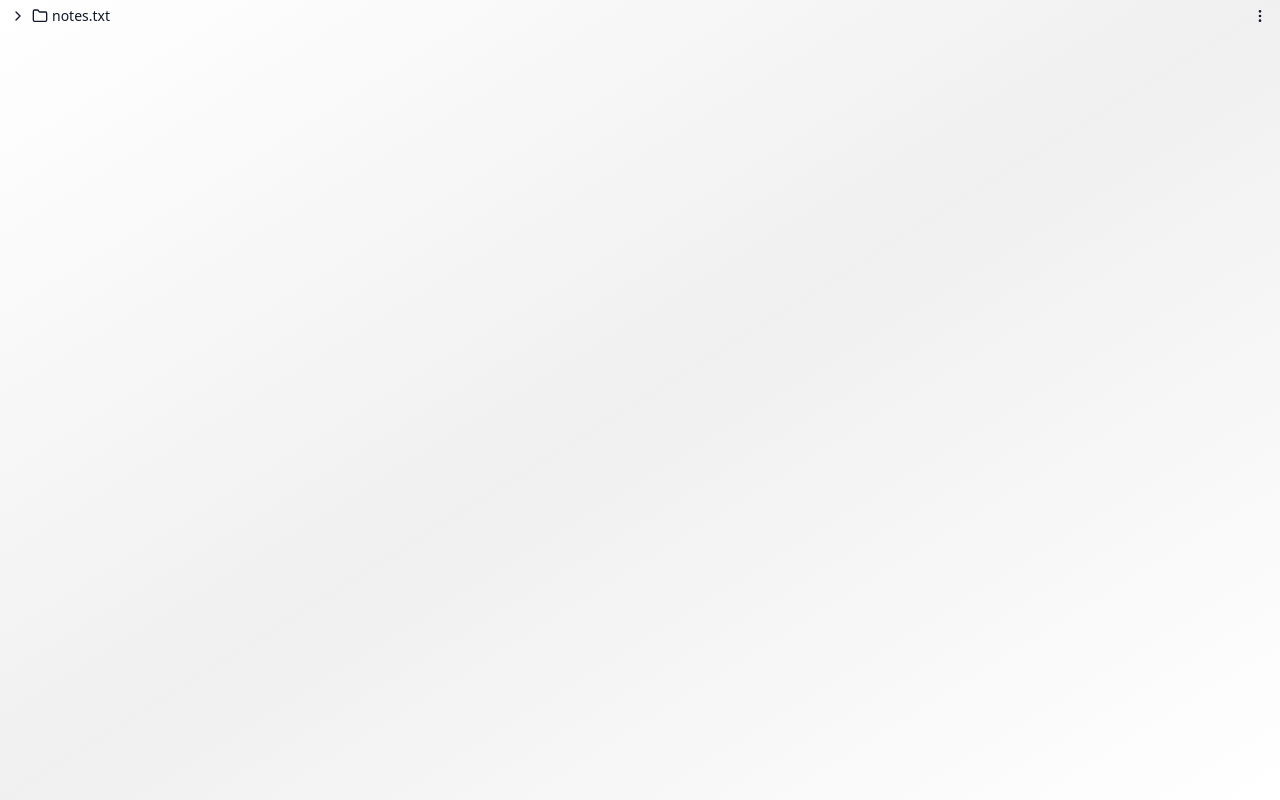
Test: FileTree row actions › shows Korean deletion confirmation without deleting on cancel, directory=true
The image size is (1280, 800).
Later steps or results of the test are not shown.
What coordinates should you click on to do the following:
click the button named "notes.txt 작업"
I would click on:
 (1260, 16)
Its box is top-left (1248, 4), bottom-right (1272, 28).
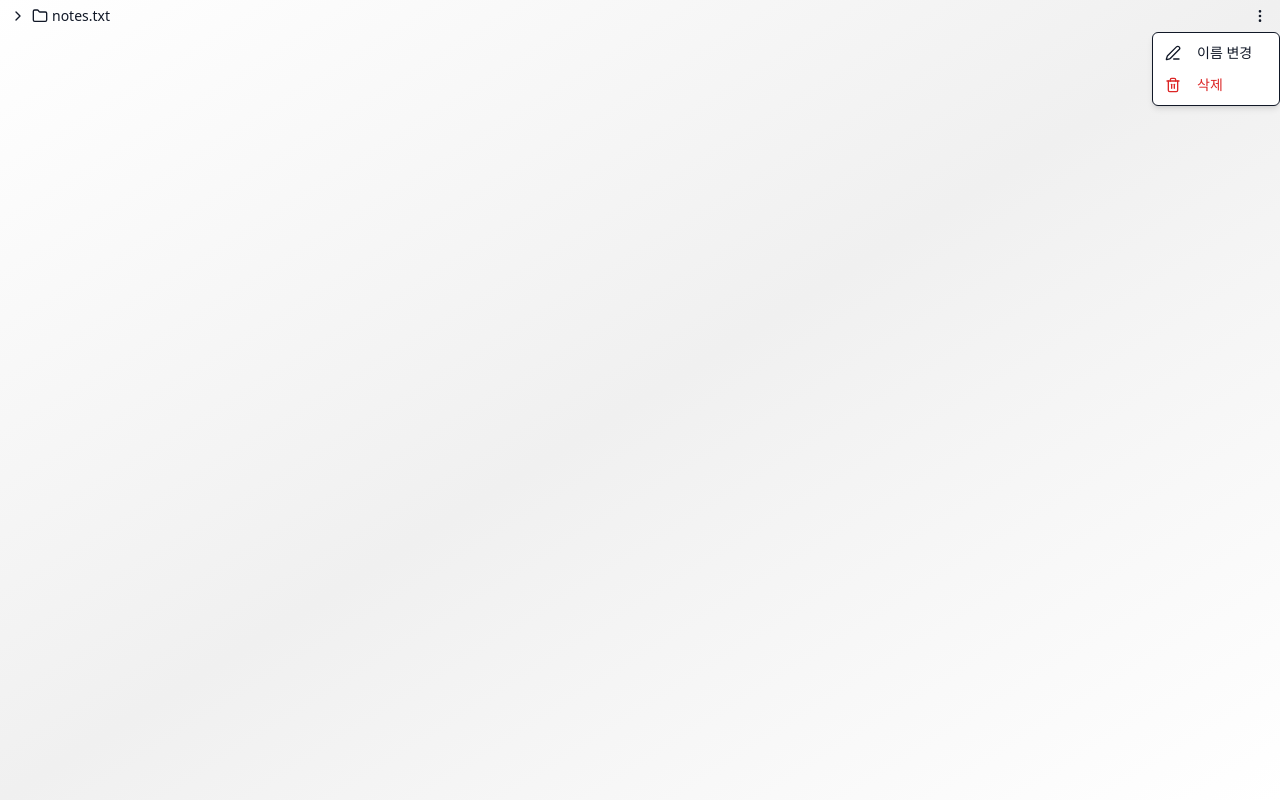
What coordinates should you click on to do the following:
click the menu item "삭제"
I would click on:
 (1173, 85)
Its box is top-left (1165, 75), bottom-right (1223, 94).
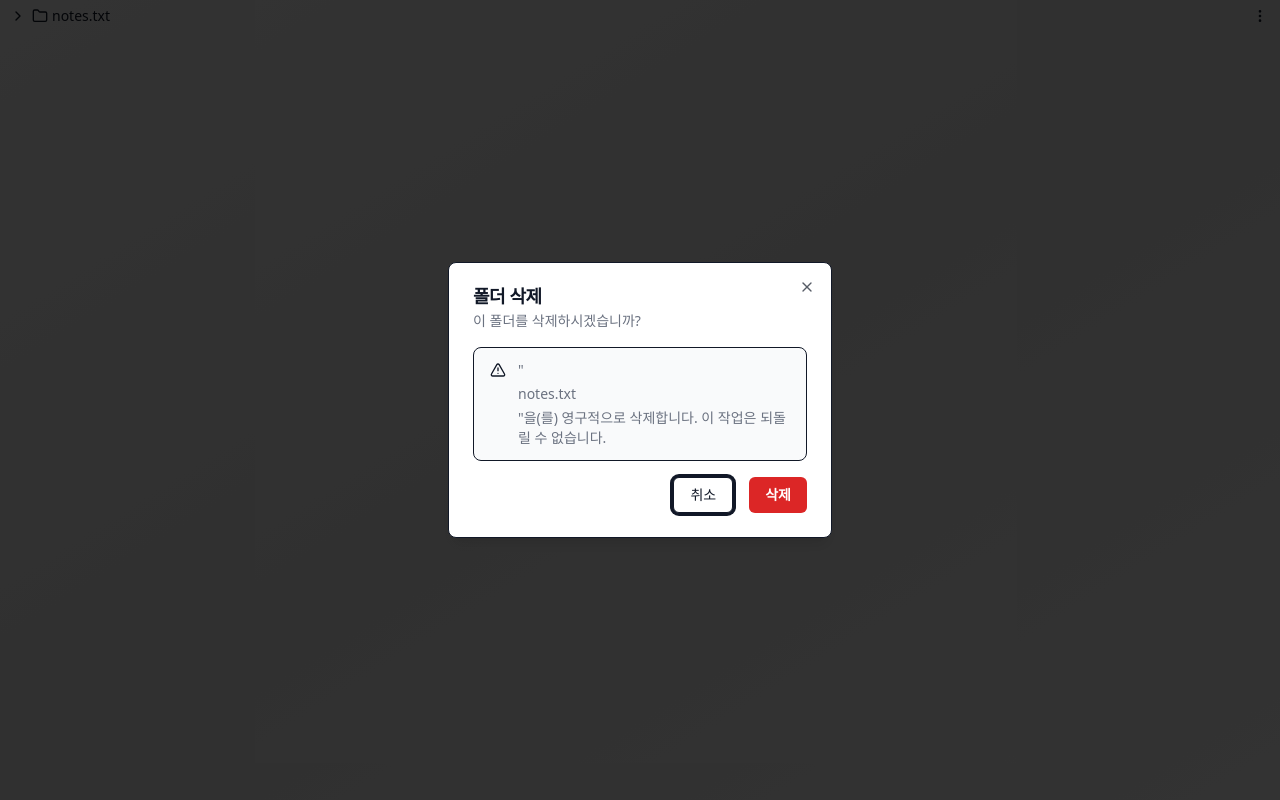
Expected: the dialog "폴더 삭제" is shown, top-left (448, 262), bottom-right (832, 538)
Expected: the text "이 폴더를 삭제하시겠습니까?" is shown, top-left (473, 311), bottom-right (641, 330)
